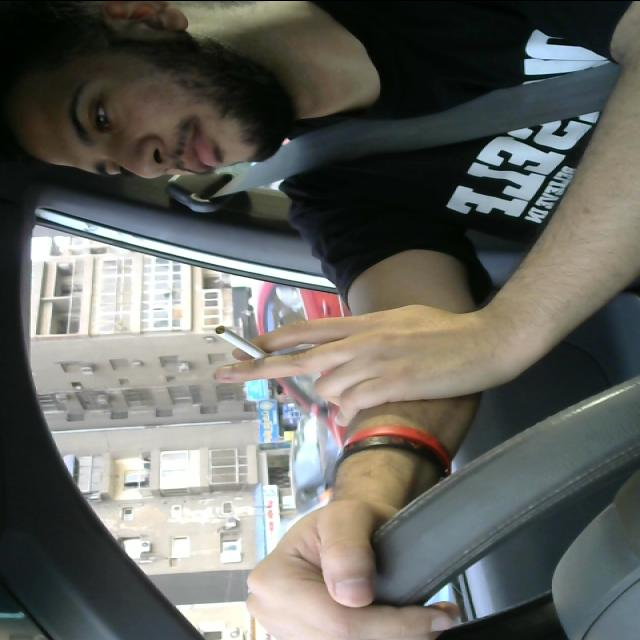smoking: (210, 314, 276, 374)
